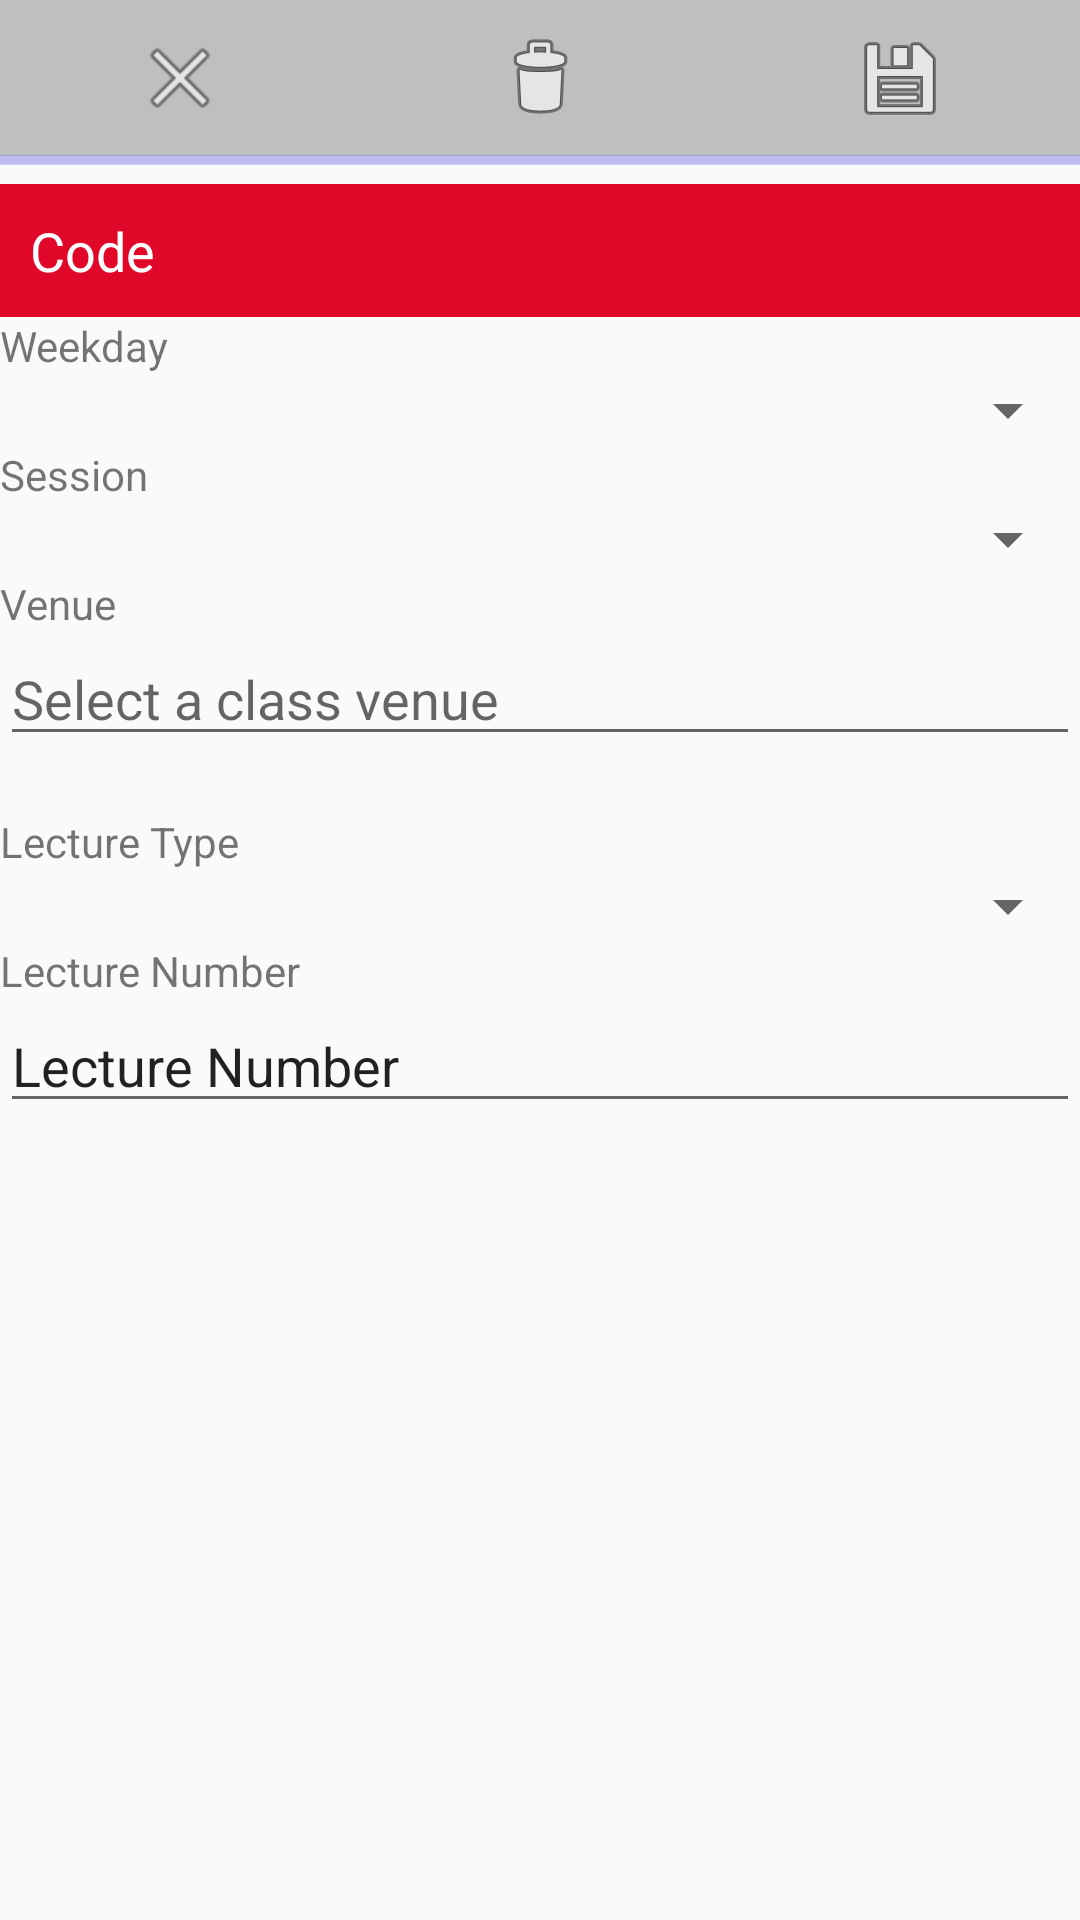

Icon click points for this 1080*1920 phone screenshot, format (x,y):
Back: (180,78)
Delete: (540,78)
save changes: (900,78)
